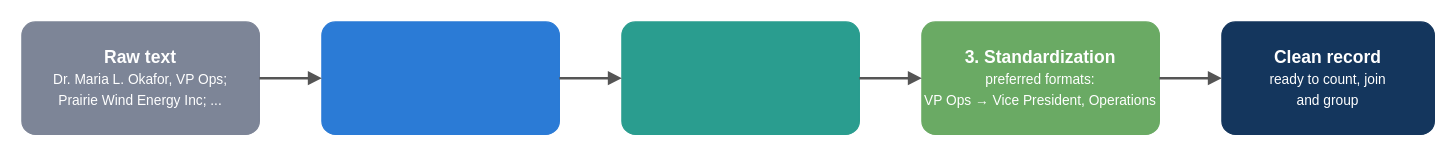
This 1456x156 diagram has some shape labels left out. The shapes that lost their labels are listed below. From the top down, each one's box as (x1, y1, x2, y2) in pixels, then its label:
(321, 21, 559, 134): 1. Parsing separate the elements: title, names, job, company, address
(621, 21, 859, 134): 2. Correction fix wrong or missing values: add postal code 66044
